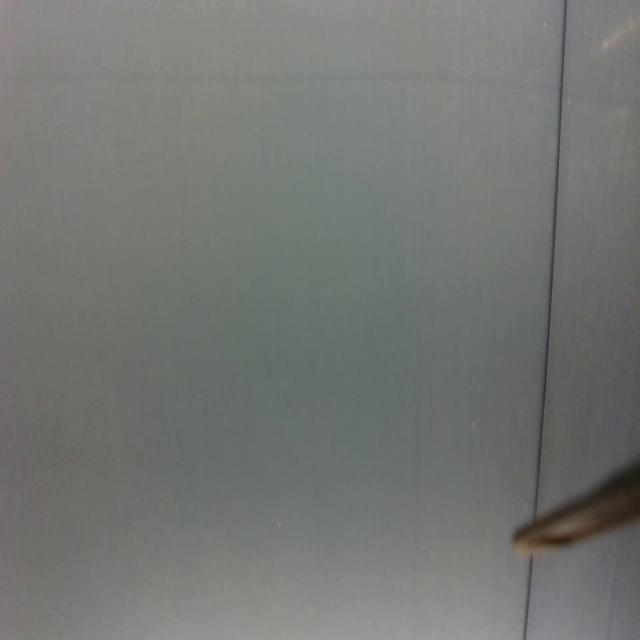color bleeding: (2, 65, 640, 114)
crease: (535, 0, 569, 503), (523, 556, 534, 640)
